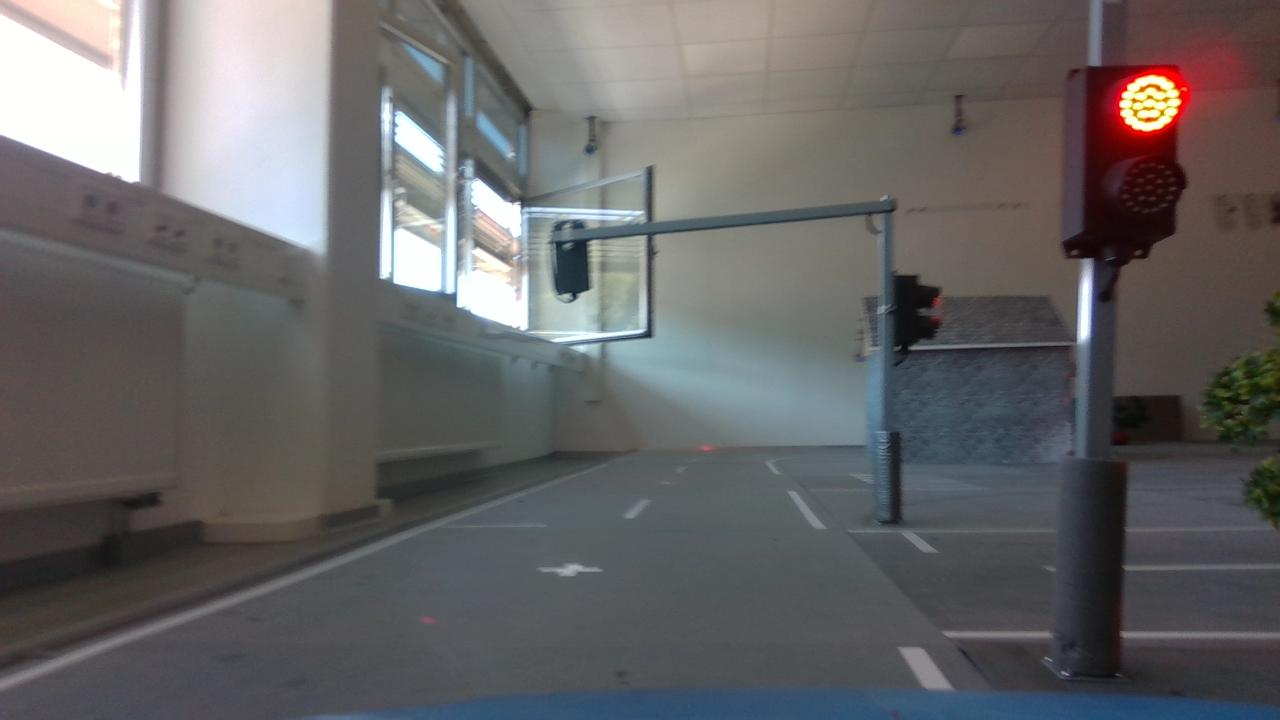traffic_light_red: (1051, 49, 1200, 268)
